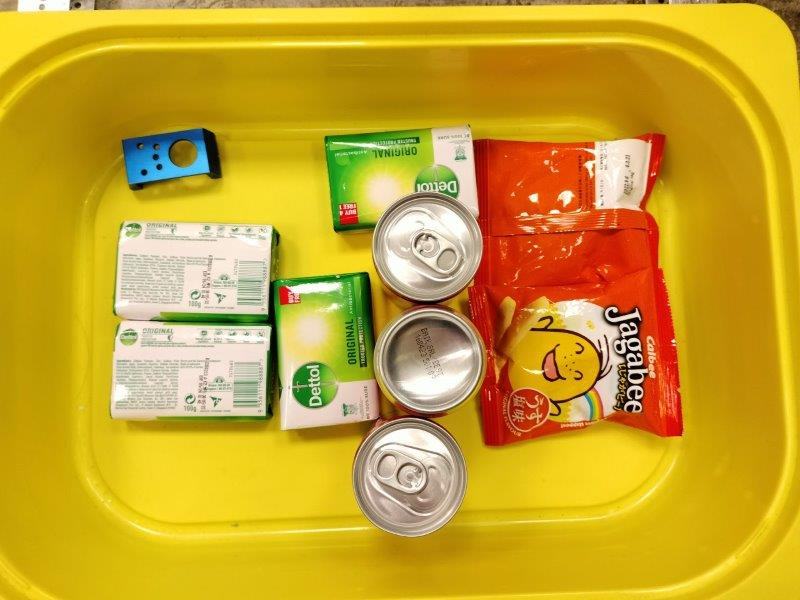Coke: (355, 421, 463, 533), (374, 196, 482, 301), (376, 310, 481, 410)
Dettol: (275, 277, 378, 427), (117, 225, 276, 319), (328, 129, 476, 227), (114, 324, 270, 415)
Jagabee: (470, 272, 681, 441), (470, 139, 672, 282)
